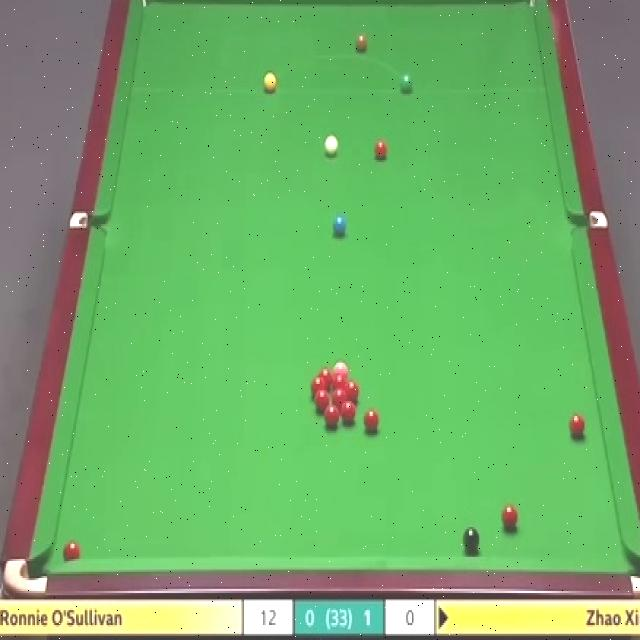black-ball: (463, 527, 480, 554)
blue-ball: (334, 215, 346, 236)
brown-ball: (356, 34, 367, 52)
green-ball: (401, 75, 414, 93)
pink-ball: (335, 362, 347, 381)
red-ball: (569, 412, 586, 440), (314, 390, 333, 414), (323, 406, 342, 429), (502, 507, 518, 534), (318, 366, 334, 392), (63, 541, 79, 564), (364, 408, 377, 433), (345, 379, 359, 402), (340, 402, 356, 422), (332, 391, 348, 410), (312, 378, 328, 396), (332, 374, 346, 394), (375, 142, 388, 161)
white-ball: (324, 134, 338, 156)
yellow-ball: (263, 72, 277, 94)
